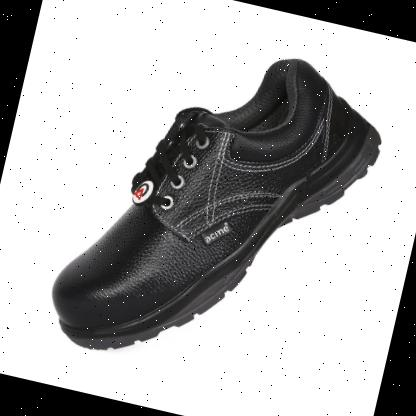bota: (34, 9, 403, 411)
